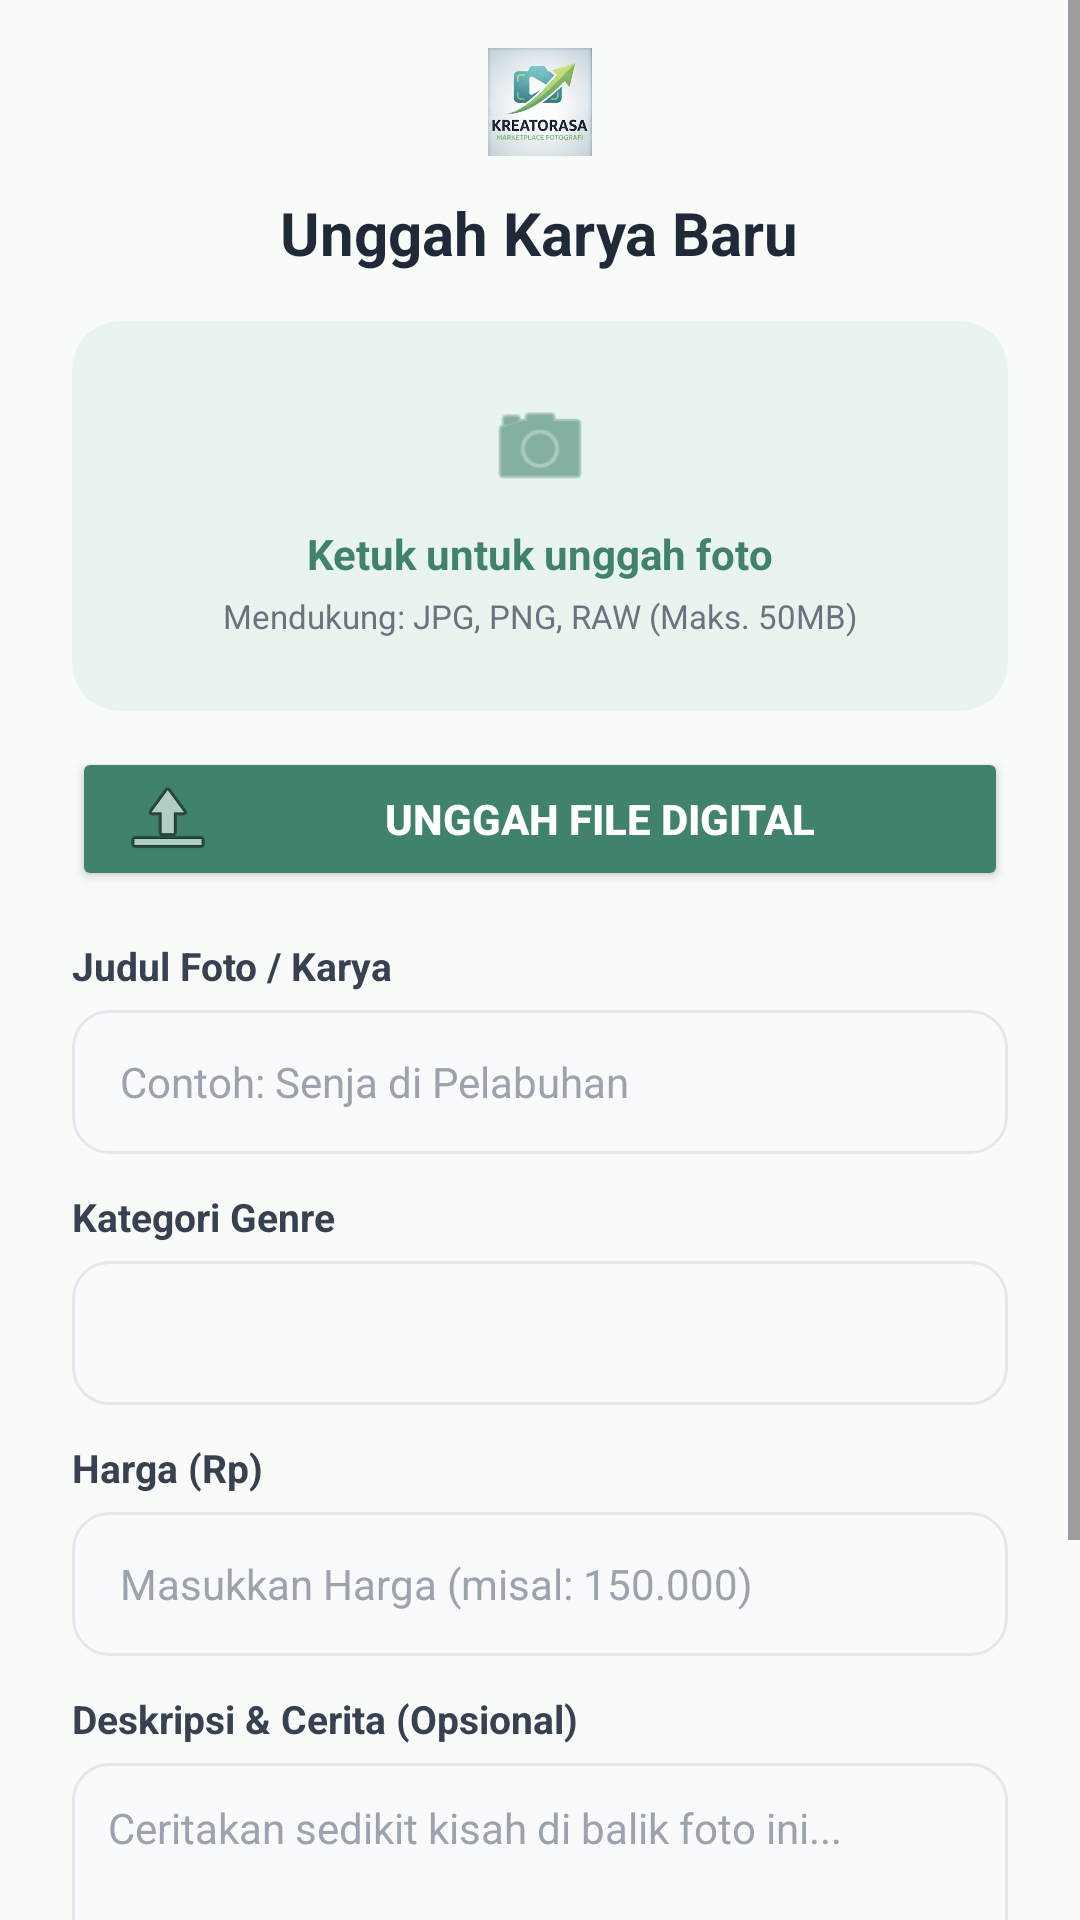

Where icons sit on this 1080 × 1920 app screen, as (x1, y1, x2, y2):
camera: (498, 412, 582, 478)
